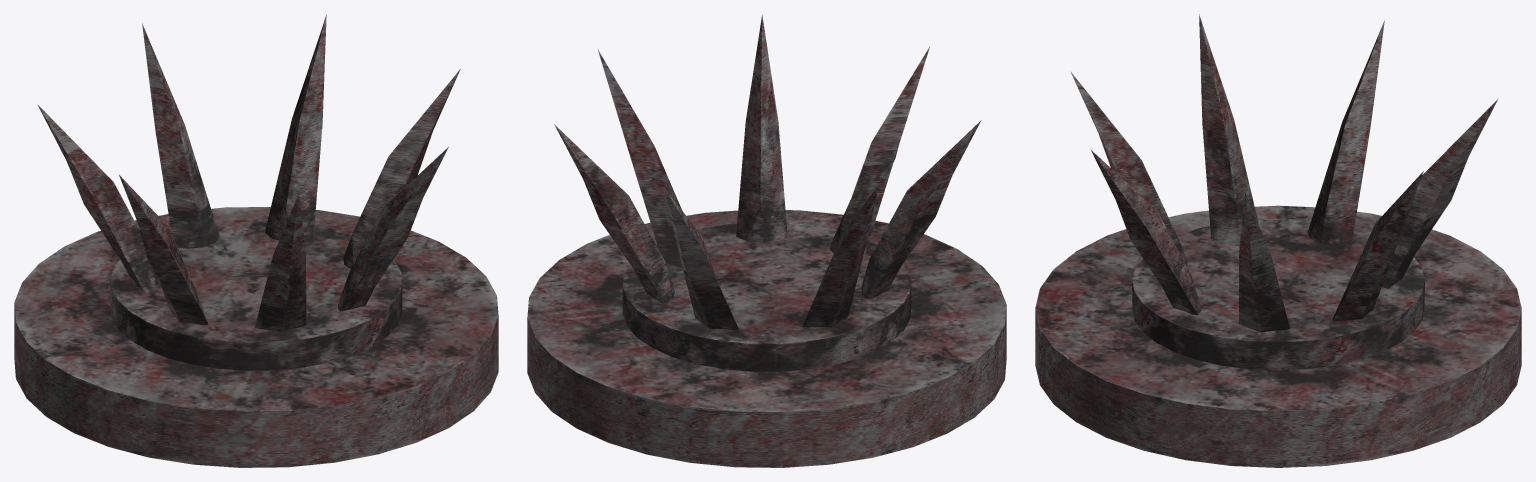
File: newpinball_pin_base.fbx
The picture shows the model from 3 angles, left to right: view 1: azimuth 30°, elevation 25°; view 2: azimuth 150°, elevation 25°; view 3: azimuth 270°, elevation 25°; orthographic projection.
Parts seen in each view (by area): view 1: pin_base; view 2: pin_base; view 3: pin_base.
Part boxes in pixels (x1,y1,x2,y2): pin_base: (14, 14, 498, 467); pin_base: (527, 15, 1006, 467); pin_base: (1035, 14, 1521, 467).
Size of the model in its own units: 14.39 by 9.99 by 14.39.
